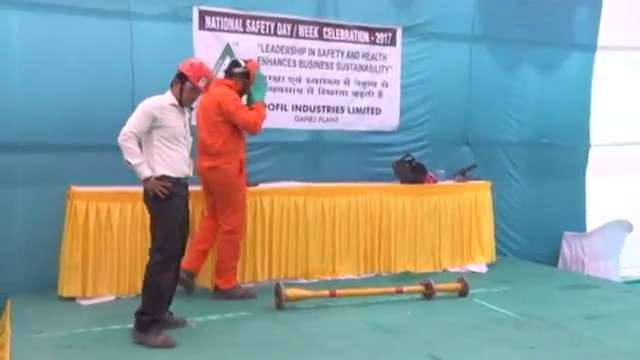helmet: (178, 55, 214, 93), (230, 55, 266, 84)
helmet_on: (171, 56, 215, 113), (222, 55, 265, 95)
person: (115, 55, 213, 351), (181, 55, 259, 302)
